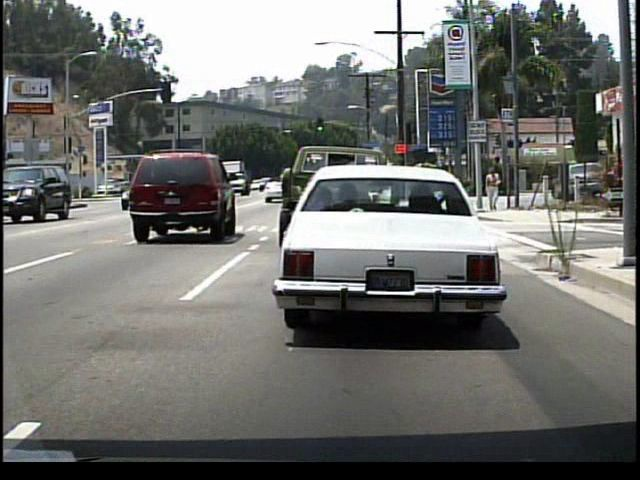person: (487, 167, 504, 213)
